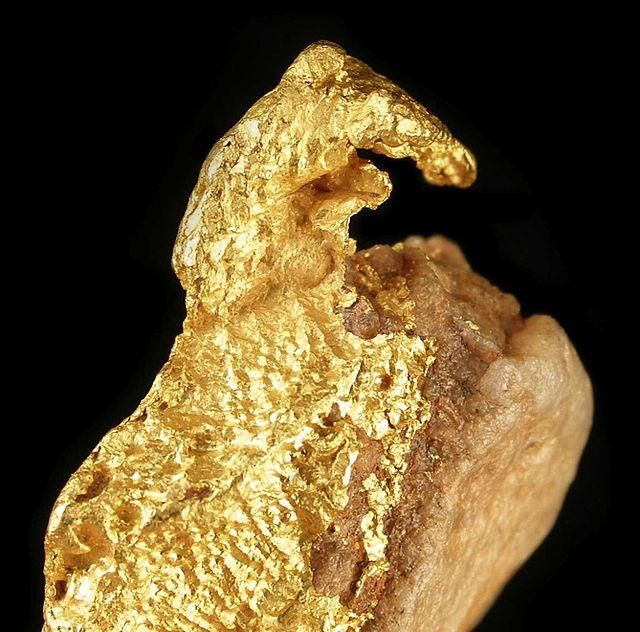gold: (36, 36, 599, 631)
